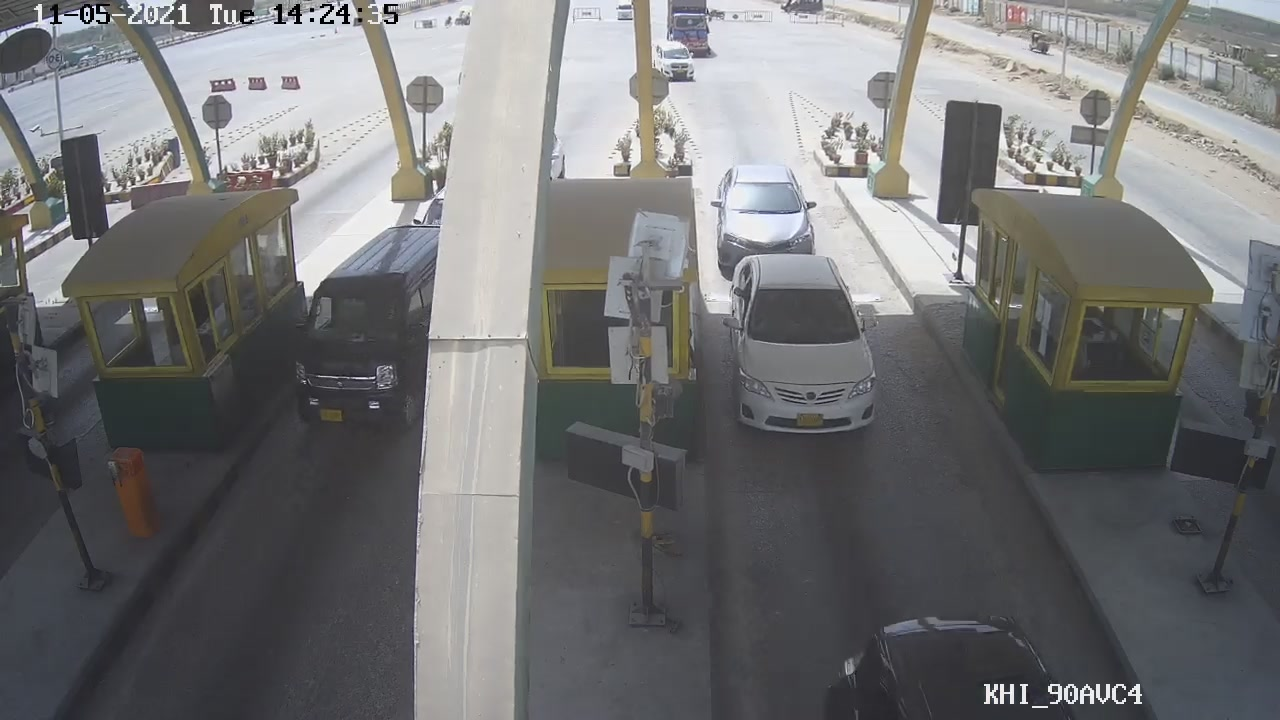F1: (713, 249, 892, 436)
